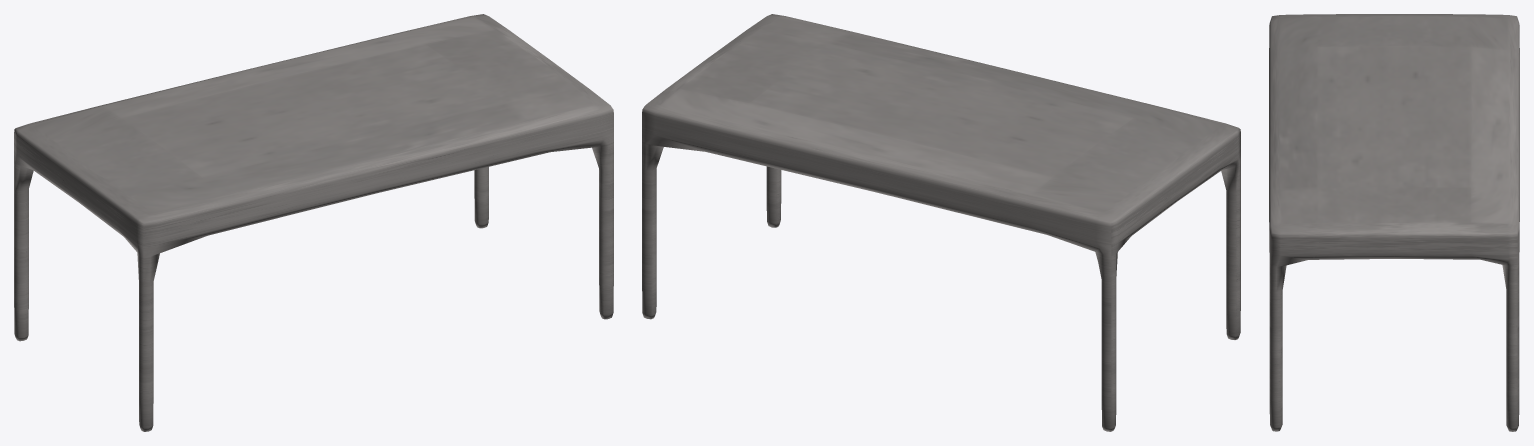
File: Workbench.fbx
The picture shows the model from 3 angles, left to right: view 1: azimuth 30°, elevation 25°; view 2: azimuth 150°, elevation 25°; view 3: azimuth 270°, elevation 25°; orthographic projection. The views are drawn at different scales.
Parts seen in each view (by area): view 1: Cube; view 2: Cube; view 3: Cube.
Boxes of the visible parts, x1,y1,x2,y2 form: Cube: (14, 14, 613, 431); Cube: (642, 14, 1240, 431); Cube: (1269, 14, 1519, 431).
Bounding box in the file's own units: 414 × 184 × 200.
